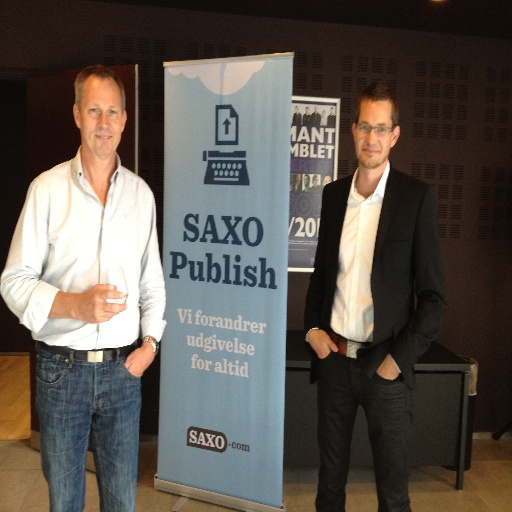hand: (76, 279, 127, 326), (123, 345, 156, 378), (308, 327, 339, 360), (375, 354, 399, 384)
